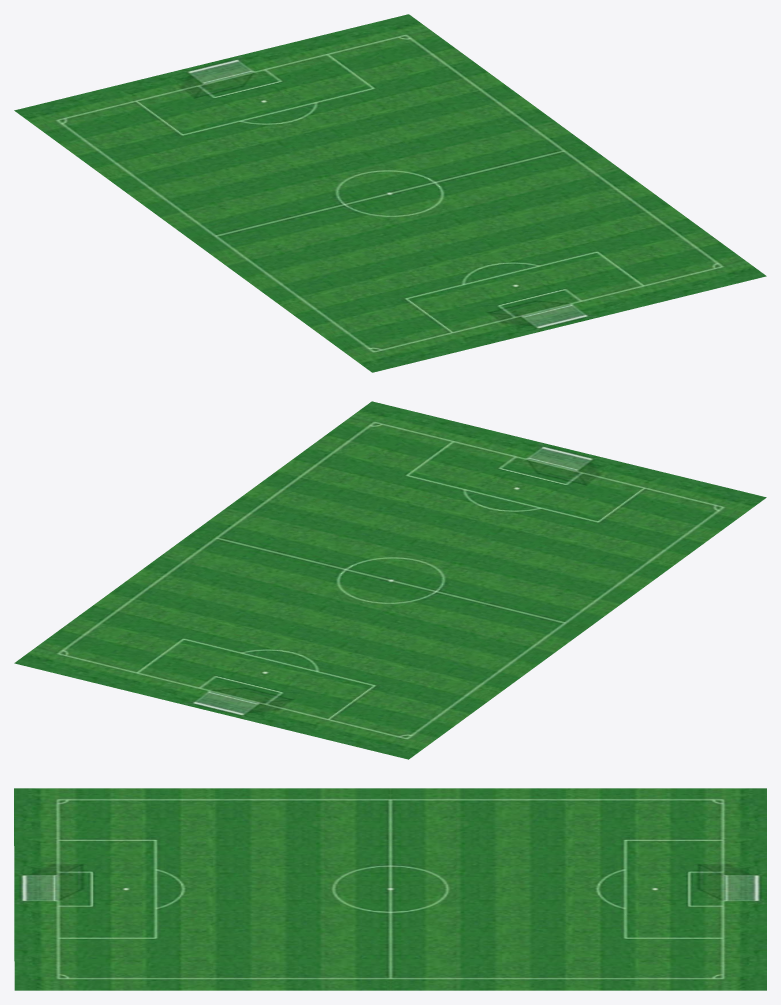
The model's file is san_bong_da_1.glb.
3 views of the same model, one above another, from view 1: azimuth 30°, elevation 25°; view 2: azimuth 150°, elevation 25°; view 3: azimuth 270°, elevation 25° (orthographic). The views are drawn at different scales.
Parts seen in each view (by area): view 1: HN1319_SanBongDa; view 2: HN1319_SanBongDa; view 3: HN1319_SanBongDa.
Part boxes in pixels (x1,y1,x2,y2): HN1319_SanBongDa: [14, 14, 766, 372]; HN1319_SanBongDa: [14, 401, 766, 759]; HN1319_SanBongDa: [14, 788, 766, 990].
Bounding box in the file's own units: 70.89 × 0 × 111.
Materials: 1 (1 with a texture image).
